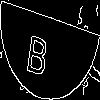B: (25, 25, 51, 77)
